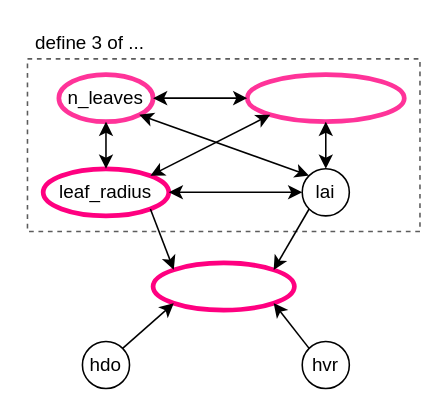
The diagram is 447 pixels wide and 416 high, and some of its shapes have lost their labels. The shapes that lost their labels are listed below. From the top down, each one's centre as x and y in pixels, then its label:
At point 325,97: "l_horizontal".
At point 223,286: "l_vertical".
